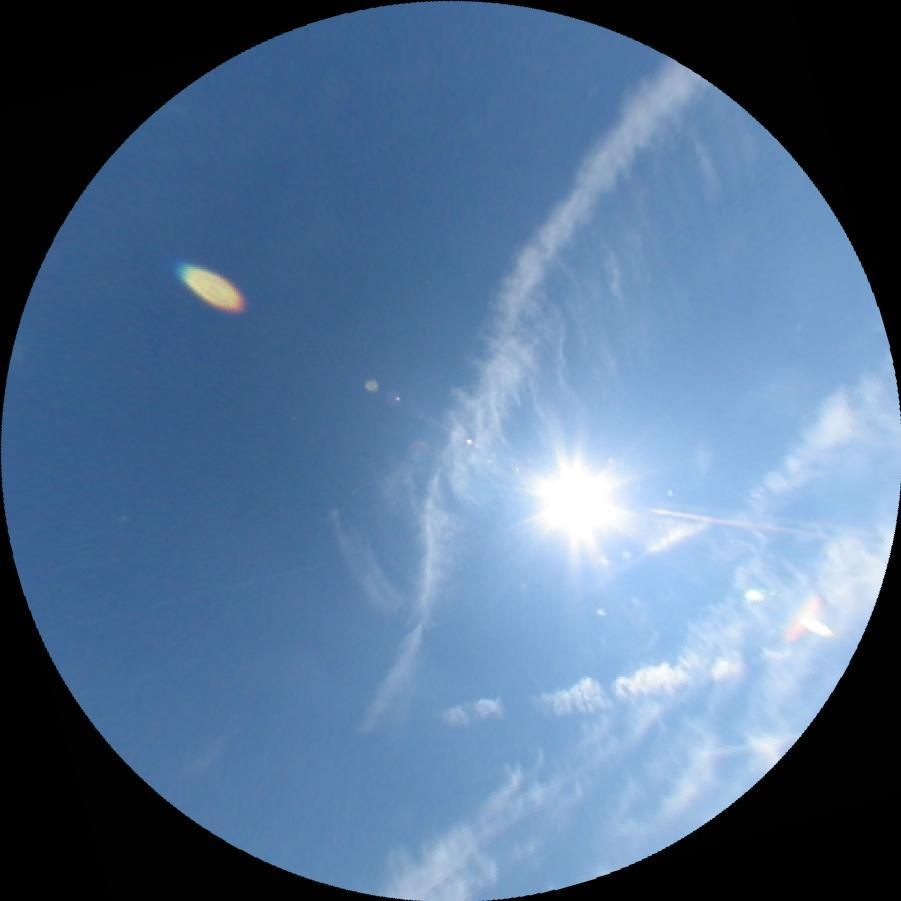contrail veryold: (294, 37, 710, 747), (297, 87, 814, 635), (437, 649, 739, 734)
parasite: (649, 505, 828, 539)
sun: (522, 451, 623, 546)
